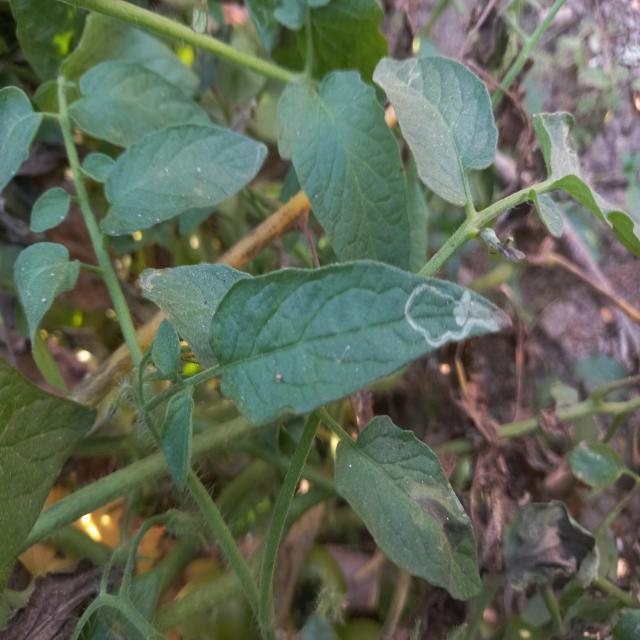Tuta absoluta: (394, 263, 502, 372)
